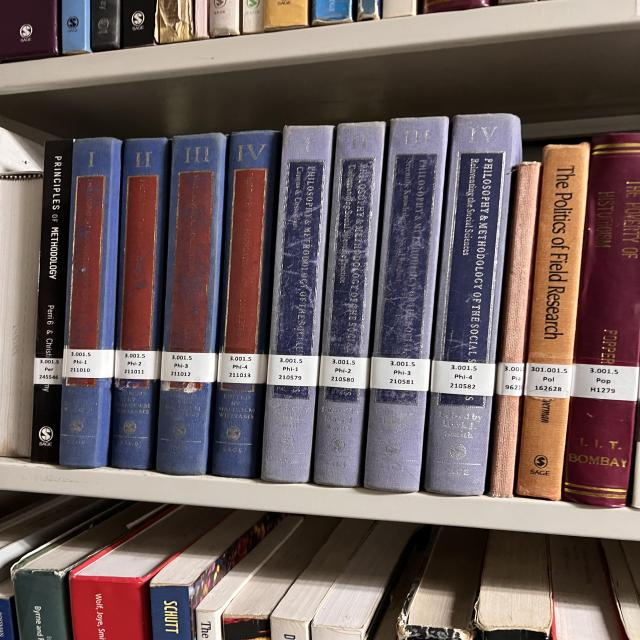Book: (425, 114, 522, 496), (363, 116, 448, 492), (562, 132, 640, 508), (313, 121, 385, 486), (517, 142, 590, 500), (262, 125, 333, 482), (157, 132, 227, 475), (212, 130, 280, 478), (60, 138, 122, 468), (112, 138, 170, 469), (488, 161, 542, 498), (30, 140, 73, 462)
Label: (572, 364, 638, 401), (430, 360, 495, 396), (370, 356, 430, 391), (523, 362, 572, 399), (318, 355, 370, 389), (160, 351, 217, 382), (267, 354, 320, 386), (217, 352, 268, 384), (62, 349, 115, 379), (115, 350, 162, 380), (495, 362, 525, 396), (33, 358, 63, 385)
